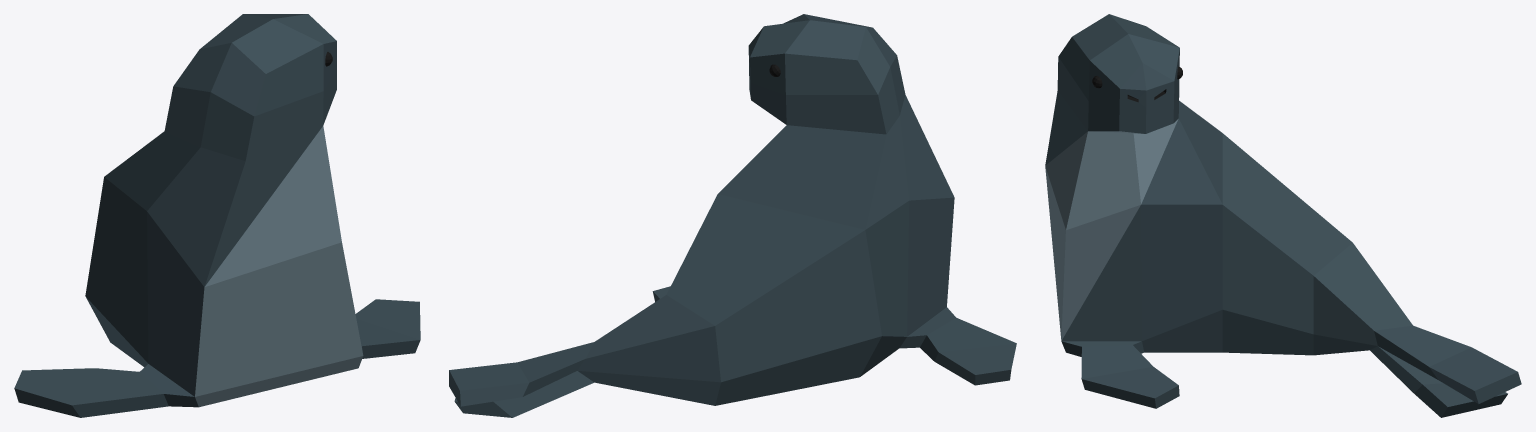
File: Seal_01.fbx
3 views of the same model, side by side, from view 1: azimuth 30°, elevation 25°; view 2: azimuth 150°, elevation 25°; view 3: azimuth 270°, elevation 25° (orthographic). The views are drawn at different scales.
Parts seen in each view (by area): view 1: Seal_01; view 2: Seal_01; view 3: Seal_01.
Part boxes in pixels (<box>): Seal_01: <box>14,14,420,417</box>; Seal_01: <box>449,14,1016,417</box>; Seal_01: <box>1045,14,1521,417</box>.
Size of the model in its own units: 11.45 by 8.36 by 11.77.
